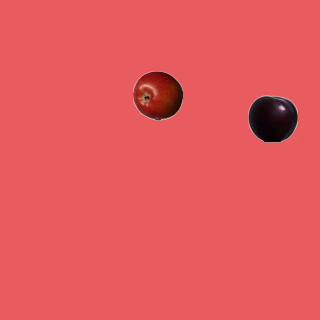Apple Braeburn: (132, 70, 182, 120)
Cherry Wax Black: (247, 93, 297, 143)
